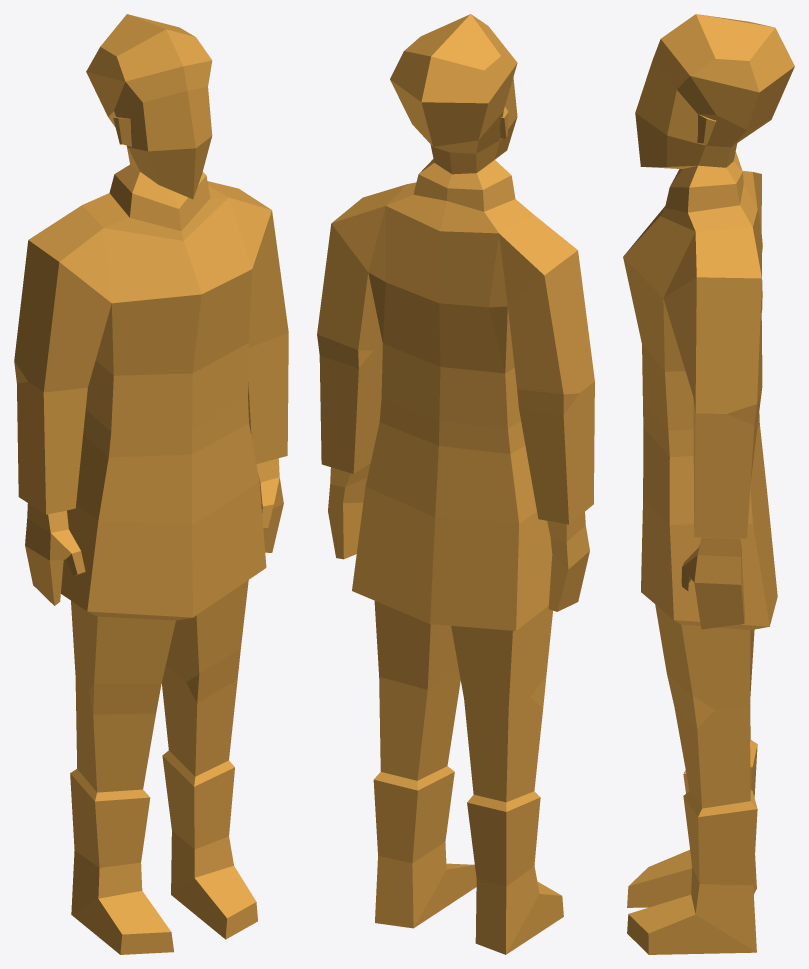
File: woman-winter-coat.fbx
3 views of the same model, side by side, from view 1: azimuth 30°, elevation 25°; view 2: azimuth 150°, elevation 25°; view 3: azimuth 270°, elevation 25° (orthographic).
Visible parts, largest first — view 1: woman-winter-coat; view 2: woman-winter-coat; view 3: woman-winter-coat.
Boxes of the visible parts, x1,y1,x2,y2 form: woman-winter-coat: [14, 14, 288, 954]; woman-winter-coat: [317, 14, 594, 954]; woman-winter-coat: [623, 14, 794, 954].
Size of the model in its own units: 0.5386 by 1.87 by 0.3219.
